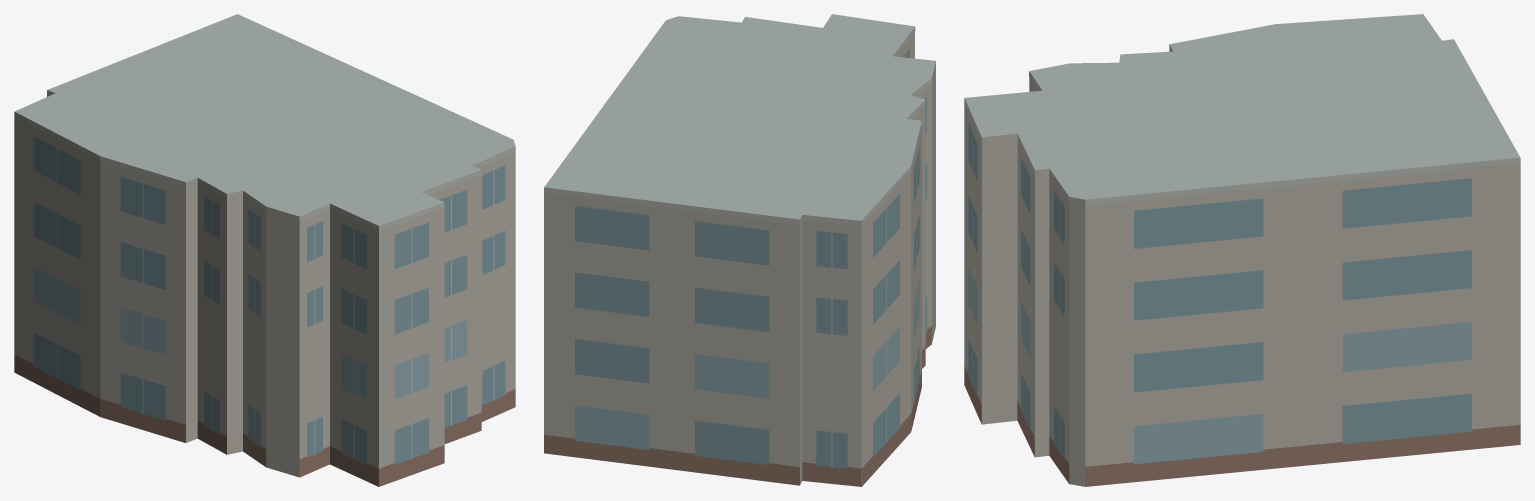
Rendered from survey-upis-32739225.glb.
3 views of the same model, side by side, from view 1: azimuth 30°, elevation 25°; view 2: azimuth 150°, elevation 25°; view 3: azimuth 270°, elevation 25° (orthographic). The views are drawn at different scales.
Visible parts, largest first — view 1: survey-upis-32739225.tmp; view 2: survey-upis-32739225.tmp; view 3: survey-upis-32739225.tmp.
Part boxes in pixels (<box>): survey-upis-32739225.tmp: <box>14,14,515,486</box>; survey-upis-32739225.tmp: <box>544,14,935,486</box>; survey-upis-32739225.tmp: <box>964,14,1520,486</box>.
Size of the model in its own units: 17.06 by 12.3 by 21.59.
